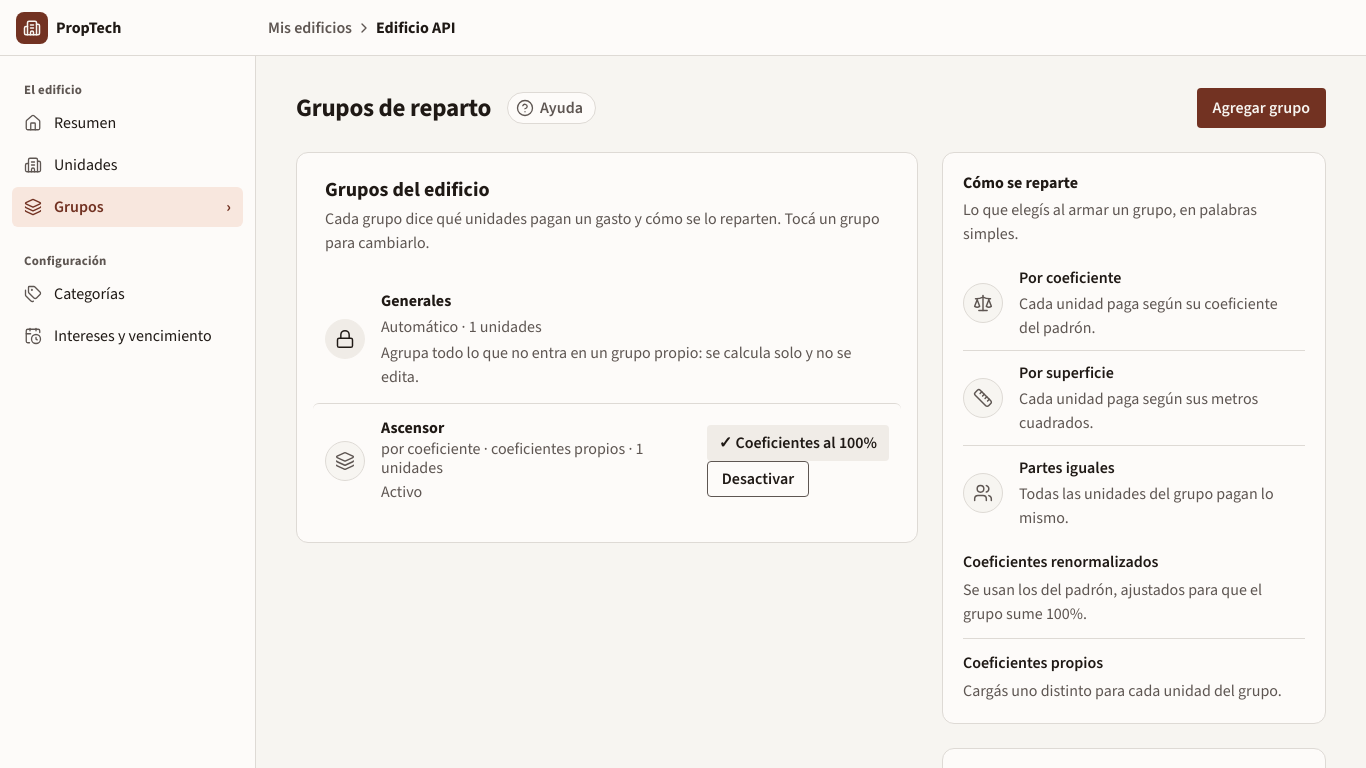
Test case: PantallaGrupos › "Guardar a medias": el segundo pedido falla y avisa qué se guardó y qué no (Guardar a medias)
Click the button "Ascensor por coeficiente · coeficientes propios · 1 unidades" at (536, 448), box [381, 418, 691, 478]
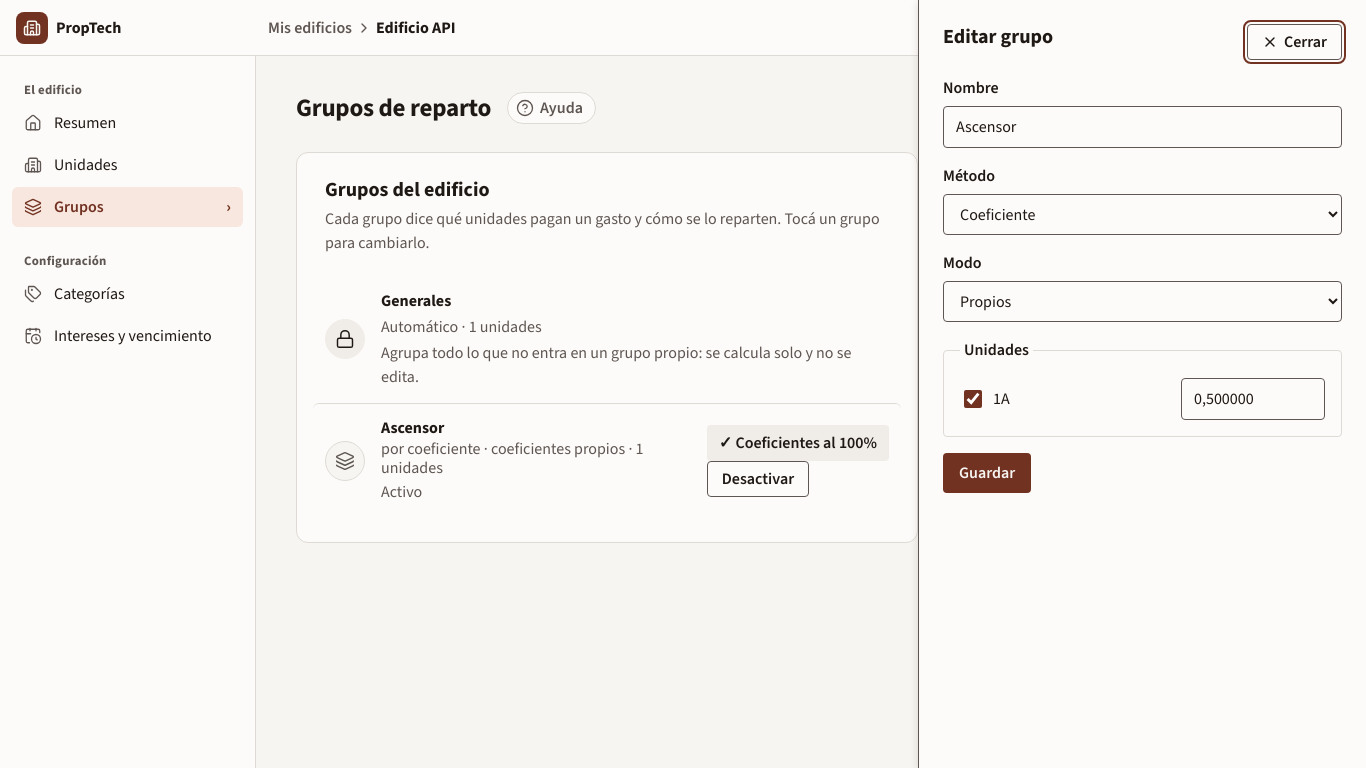
Click the button "Guardar" at (987, 473), box [943, 453, 1031, 493]
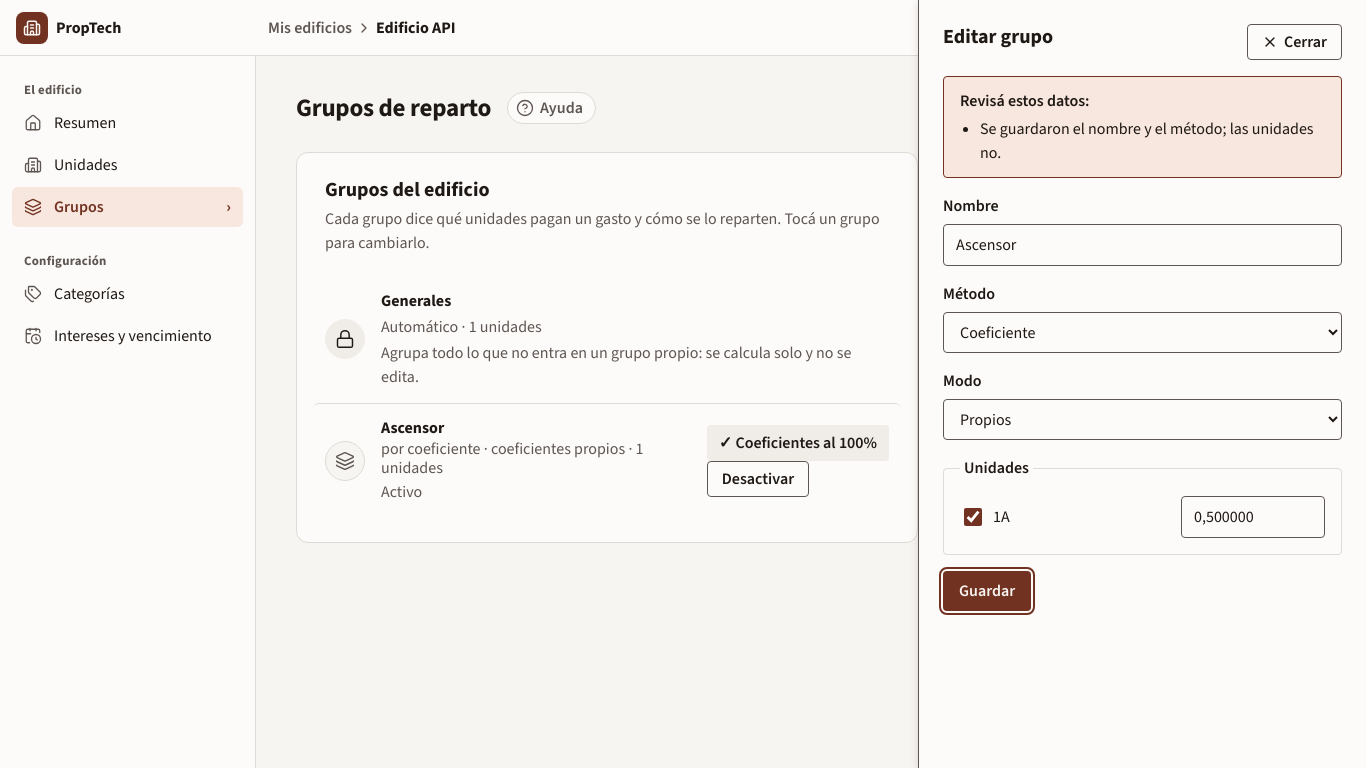
Expected: the list item "Se guardaron el nombre y el método; las unidades no." is shown, [980, 117, 1325, 165]
